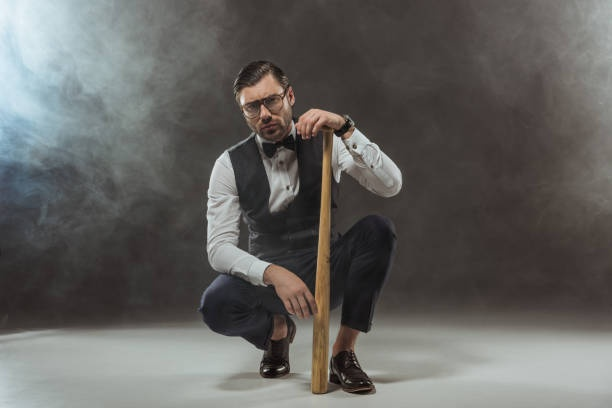bita: (306, 116, 334, 392)
